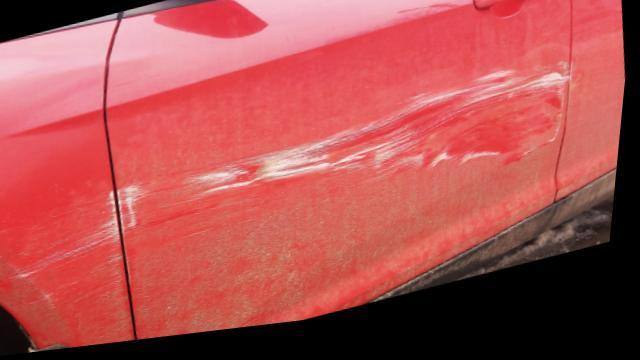scratch: (119, 72, 575, 235), (0, 190, 131, 329)
